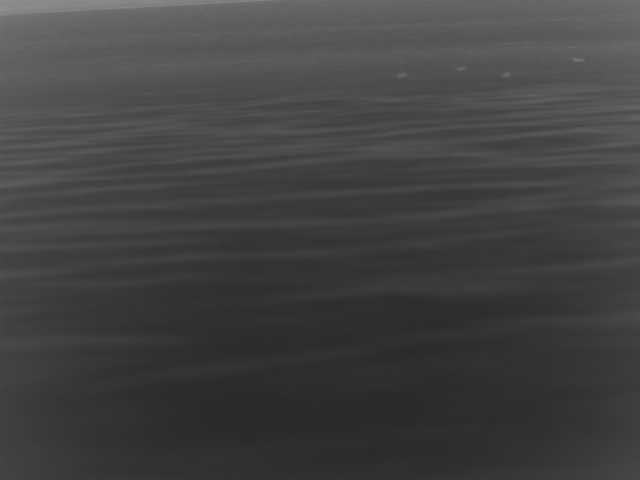dim target: (499, 67, 513, 81), (396, 69, 408, 81), (571, 54, 584, 65), (455, 64, 468, 74)
